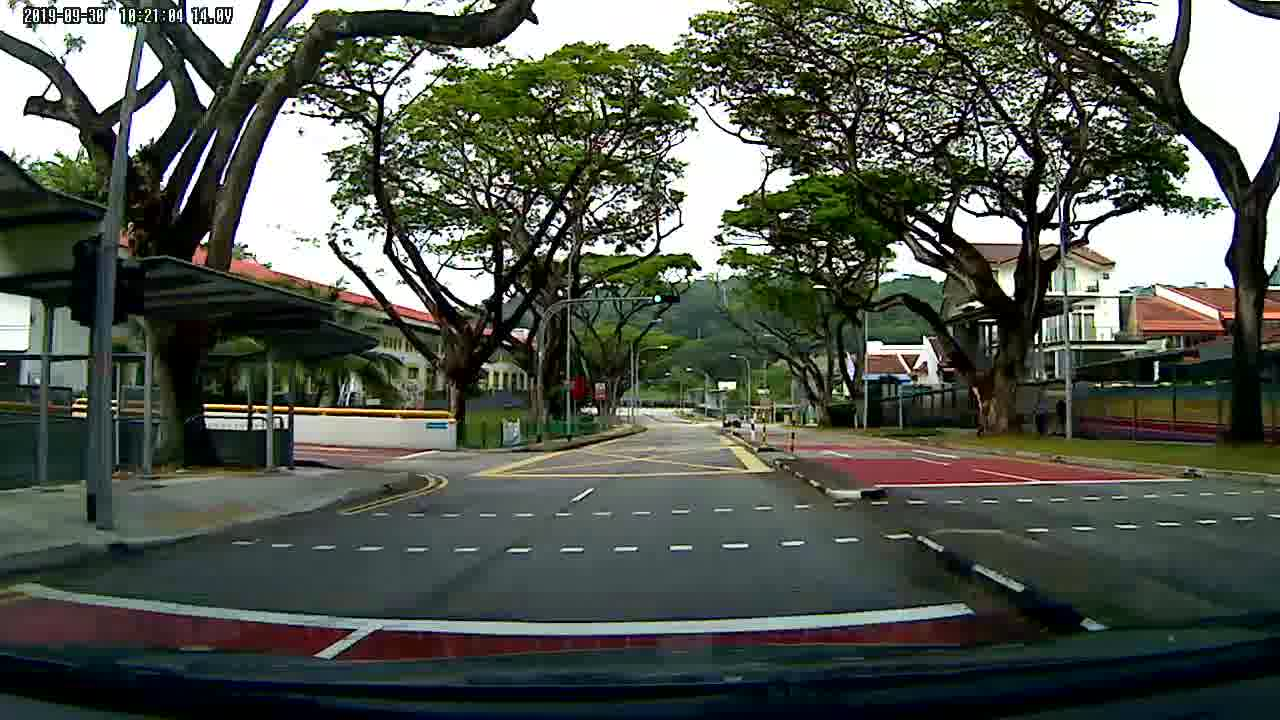car: (721, 411, 742, 429)
